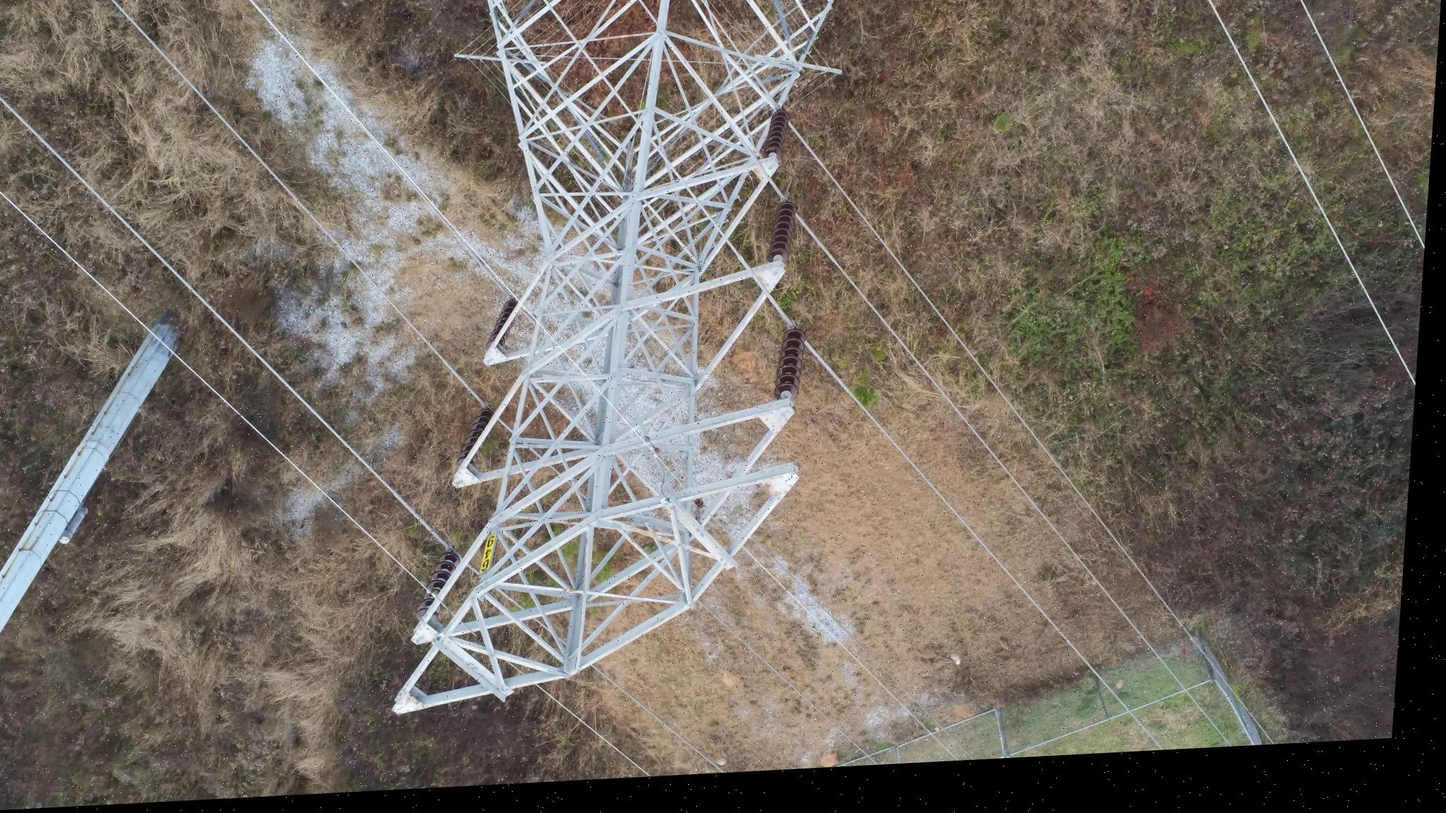tower: (388, 0, 843, 714)
